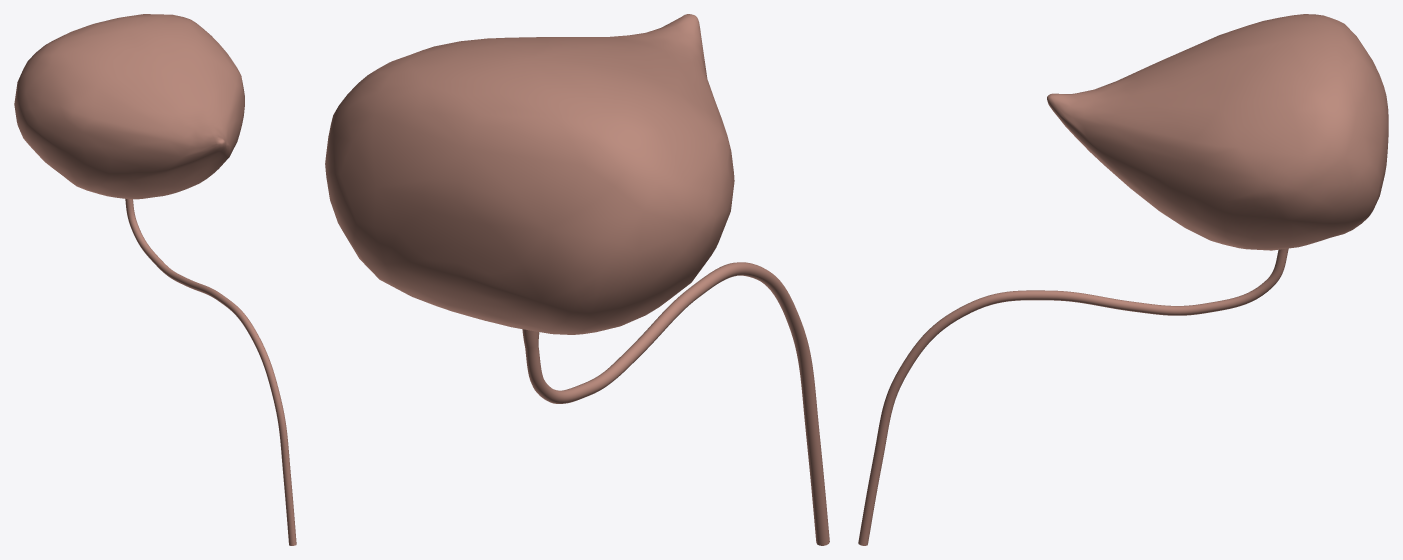
The model's file is detail-urinary-pelvis.glb.
3 renders of one model, left to right at view 1: azimuth 30°, elevation 25°; view 2: azimuth 150°, elevation 25°; view 3: azimuth 270°, elevation 25°, orthographic. The views are drawn at different scales.
Visible parts, largest first — view 1: za-7a34e34b333d73db, za-0eca9a51ae10000d; view 2: za-7a34e34b333d73db, za-0eca9a51ae10000d; view 3: za-7a34e34b333d73db, za-0eca9a51ae10000d.
Boxes of the visible parts, x1,y1,x2,y2 form: za-7a34e34b333d73db: (14,14,244,199); za-0eca9a51ae10000d: (125,199,296,545); za-7a34e34b333d73db: (325,14,734,334); za-0eca9a51ae10000d: (522,262,829,545); za-7a34e34b333d73db: (1047,14,1388,250); za-0eca9a51ae10000d: (858,248,1288,545).
Bounding box in the file's own units: 0.0745 × 0.1357 × 0.1293.
